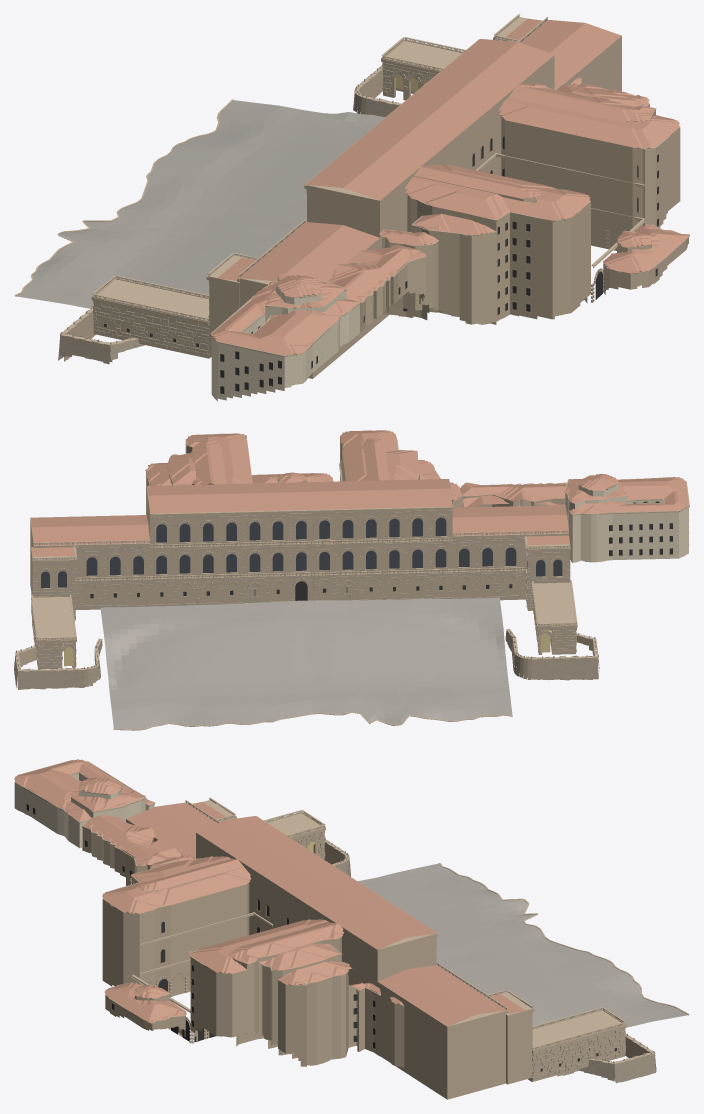
File: pitti.glb
3 views of the same model, one above another, from view 1: azimuth 30°, elevation 25°; view 2: azimuth 150°, elevation 25°; view 3: azimuth 270°, elevation 25° (orthographic). The views are drawn at different scales.
Parts seen in each view (by area): view 1: piazza_pitti@1640-99999.piazza, ammannati@1560-99999.stone, ammannati@1560-99999.roof_m, ali_basse@1640-99999.roof, nucleo@1458-99999.roof, meridiana@1776-99999.plaster, meridiana@1776-99999.roof_m, rondo_carrozze@1766-99999.stone, parigi_sud@1631-99999.stone, rondo_carrozze@1766-99999.rust, parigi_sud@1631-99999.roof, parigi_nord@1618-99999.roof (+16 smaller); view 2: piazza_pitti@1640-99999.piazza, nucleo@1458-99999.stone, ammannati@1560-99999.roof_m, ali_basse@1640-99999.stone, ali_basse@1640-99999.roof, meridiana@1776-99999.plaster, nucleo@1458-99999.roof, nucleo@1458-99999.rust, parigi_nord@1618-99999.stone, parigi_sud@1631-99999.stone, meridiana@1776-99999.roof_m, ali_basse@1640-99999.rust (+26 smaller); view 3: ammannati@1560-99999.stone, piazza_pitti@1640-99999.piazza, ammannati@1560-99999.roof_m, ali_basse@1640-99999.stone, ali_basse@1640-99999.roof, nucleo@1458-99999.roof, meridiana@1776-99999.roof_m, parigi_nord@1618-99999.stone, rondo_bacco@1783-99999.stone, meridiana@1776-99999.plaster, nucleo@1458-99999.stone, retro@1640-99999.roof_m (+11 smaller).
Boxes of the visible parts, <box> form: piazza_pitti@1640-99999.piazza: <box>16,100,385,308</box>; ammannati@1560-99999.stone: <box>382,84,689,324</box>; ammannati@1560-99999.roof_m: <box>379,83,688,273</box>; ali_basse@1640-99999.roof: <box>239,19,621,281</box>; nucleo@1458-99999.roof: <box>346,72,513,166</box>; meridiana@1776-99999.plaster: <box>211,276,359,401</box>; meridiana@1776-99999.roof_m: <box>212,274,359,355</box>; rondo_carrozze@1766-99999.stone: <box>91,275,210,358</box>; parigi_sud@1631-99999.stone: <box>304,152,419,322</box>; rondo_carrozze@1766-99999.rust: <box>93,301,209,356</box>; parigi_sud@1631-99999.roof: <box>305,151,419,200</box>; parigi_nord@1618-99999.roof: <box>440,39,554,88</box>; piazza_pitti@1640-99999.piazza: <box>100,597,512,729</box>; nucleo@1458-99999.stone: <box>220,508,382,603</box>; ammannati@1560-99999.roof_m: <box>146,430,462,500</box>; ali_basse@1640-99999.stone: <box>30,519,569,609</box>; ali_basse@1640-99999.roof: <box>30,505,568,545</box>; meridiana@1776-99999.plaster: <box>565,483,688,562</box>; nucleo@1458-99999.roof: <box>216,480,382,511</box>; nucleo@1458-99999.rust: <box>220,511,382,604</box>; parigi_nord@1618-99999.stone: <box>146,487,219,605</box>; parigi_sud@1631-99999.stone: <box>383,506,452,599</box>; meridiana@1776-99999.roof_m: <box>565,473,688,514</box>; ali_basse@1640-99999.rust: <box>75,537,525,608</box>; ammannati@1560-99999.stone: <box>102,858,380,1066</box>; piazza_pitti@1640-99999.piazza: <box>357,863,688,1027</box>; ammannati@1560-99999.roof_m: <box>102,855,380,1023</box>; ali_basse@1640-99999.stone: <box>126,800,508,1099</box>; ali_basse@1640-99999.roof: <box>126,802,506,1026</box>; nucleo@1458-99999.roof: <box>238,843,395,922</box>; meridiana@1776-99999.roof_m: <box>14,759,154,821</box>; parigi_nord@1618-99999.stone: <box>342,907,438,986</box>; rondo_bacco@1783-99999.stone: <box>528,1007,626,1081</box>; meridiana@1776-99999.plaster: <box>14,773,154,850</box>; nucleo@1458-99999.stone: <box>239,846,393,934</box>; retro@1640-99999.roof_m: <box>83,815,403,1004</box>.
Bounding box in the file's own units: 219 × 49.15 × 231.
